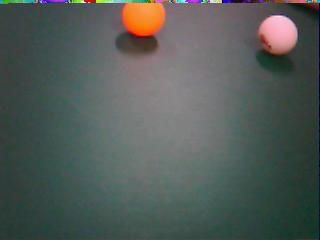oball: (122, 4, 166, 37)
